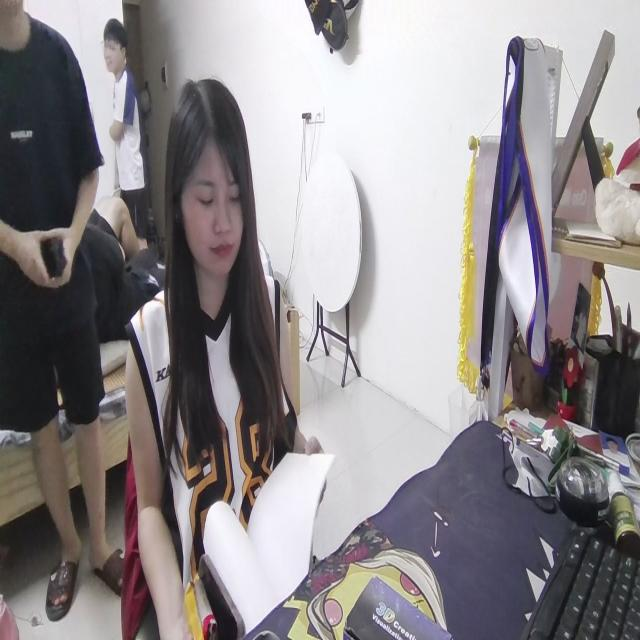book: (202, 442, 334, 614)
extra_person: (0, 0, 133, 614), (104, 20, 145, 238)
student: (129, 68, 332, 640)
